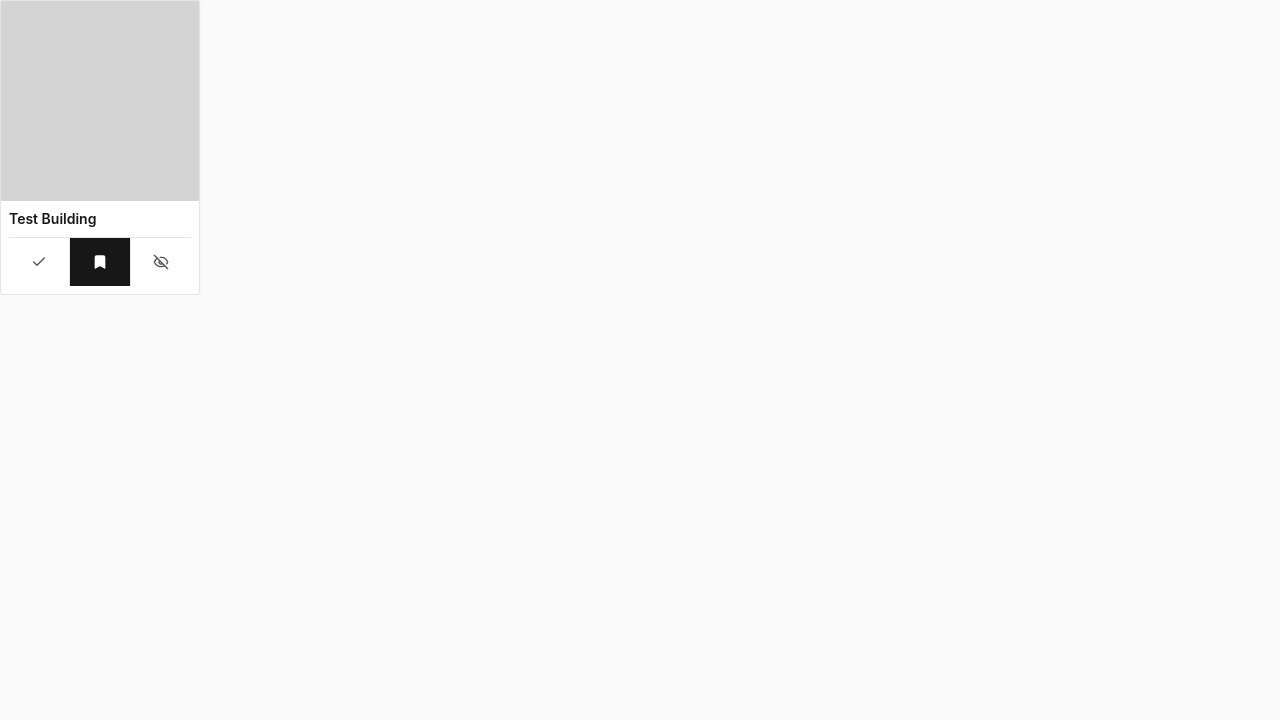
BuildingPopupContent › shows specific warning when unsaving a building with review and images
The image size is (1280, 720).
Click the button titled "Save".
click(100, 262)  # box x1=69 y1=238 x2=131 y2=286
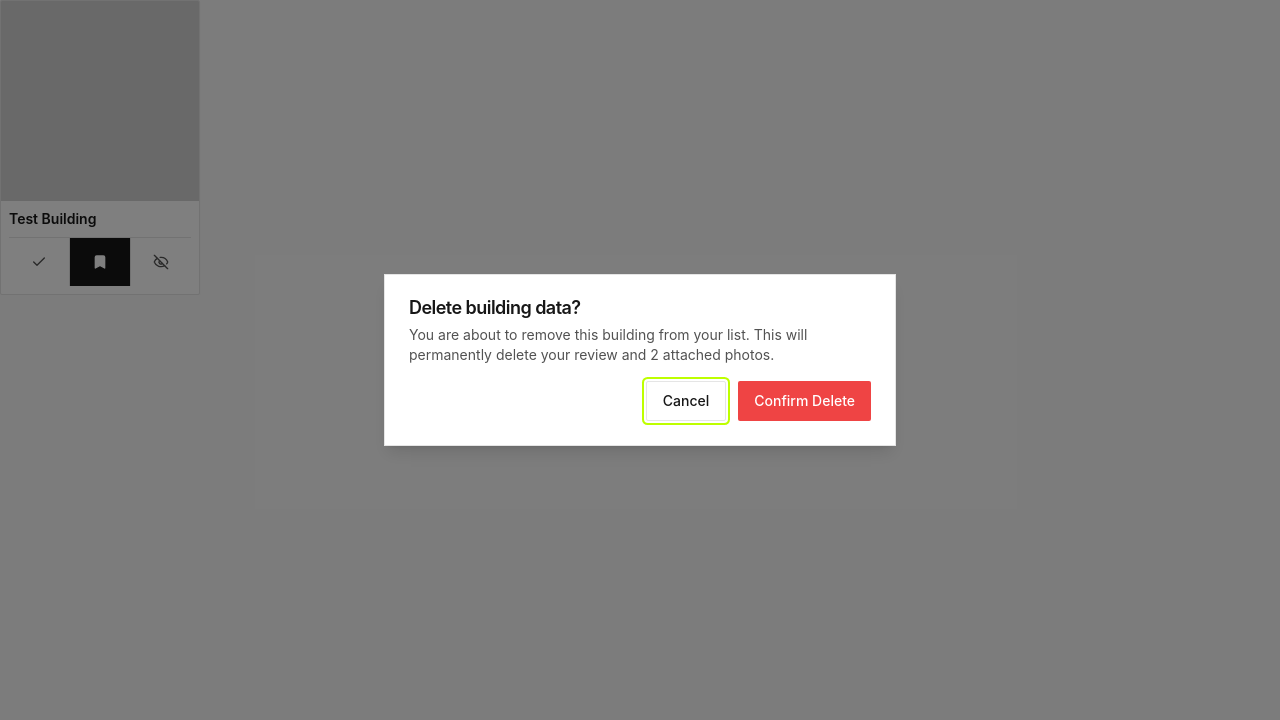
Expected: the heading "Delete building data?" is shown, x1=409 y1=297 x2=581 y2=318
Expected: the text "permanently delete your review and 2 attached photos" is shown, x1=409 y1=326 x2=807 y2=363
